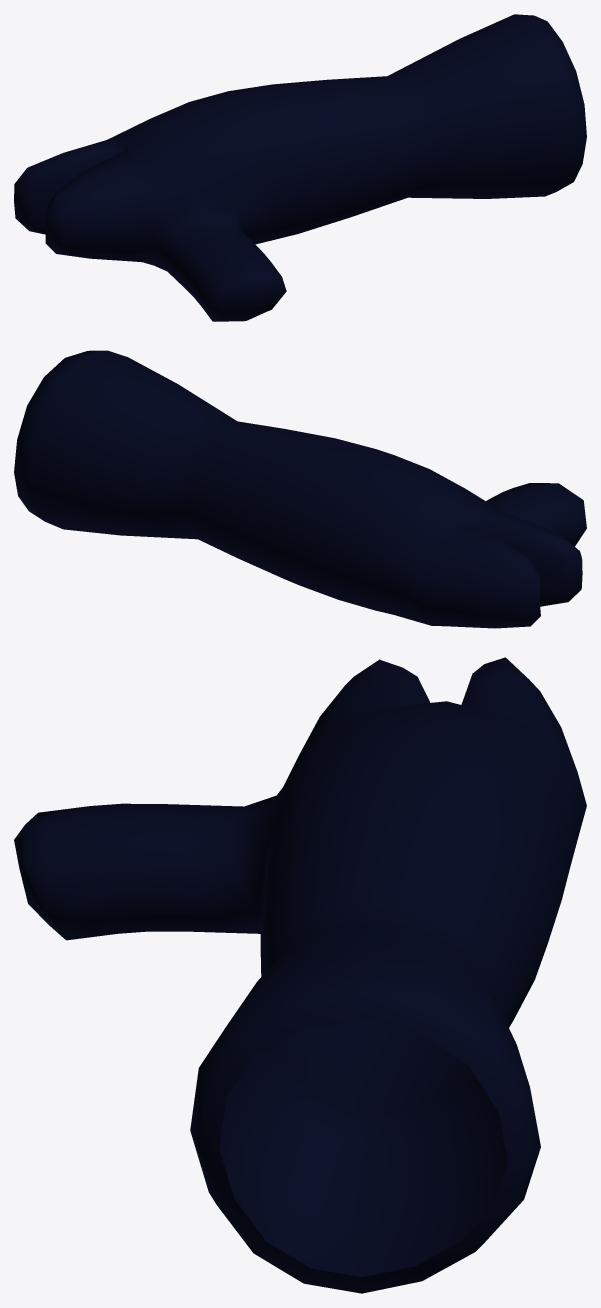
Rendered from R_hand.obj.
3 renders of one model, top to bottom at view 1: azimuth 30°, elevation 25°; view 2: azimuth 150°, elevation 25°; view 3: azimuth 270°, elevation 25°, orthographic. The views are drawn at different scales.
Visible parts, largest first — view 1: R_hand:Mesh; view 2: R_hand:Mesh; view 3: R_hand:Mesh.
Part boxes in pixels (<box>): R_hand:Mesh: <box>14,14,586,321</box>; R_hand:Mesh: <box>14,350,586,628</box>; R_hand:Mesh: <box>14,657,586,1293</box>.
Bounding box in the file's own units: 1.05 × 0.3247 × 0.5421.
